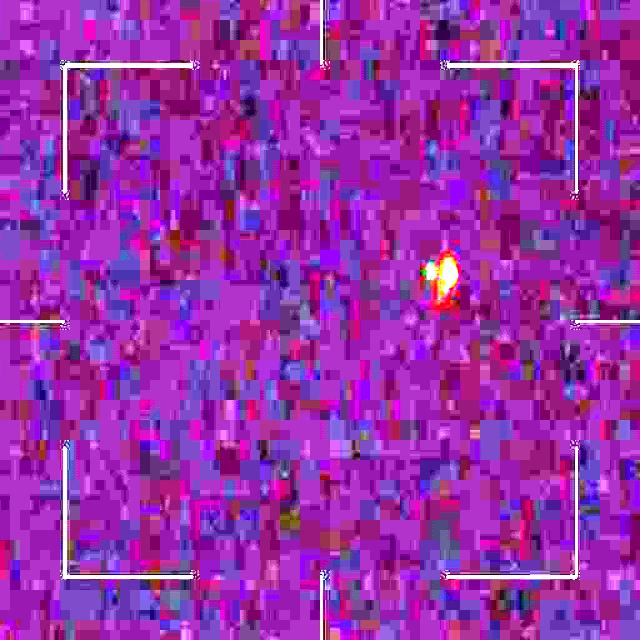bird: (424, 258, 458, 309)
